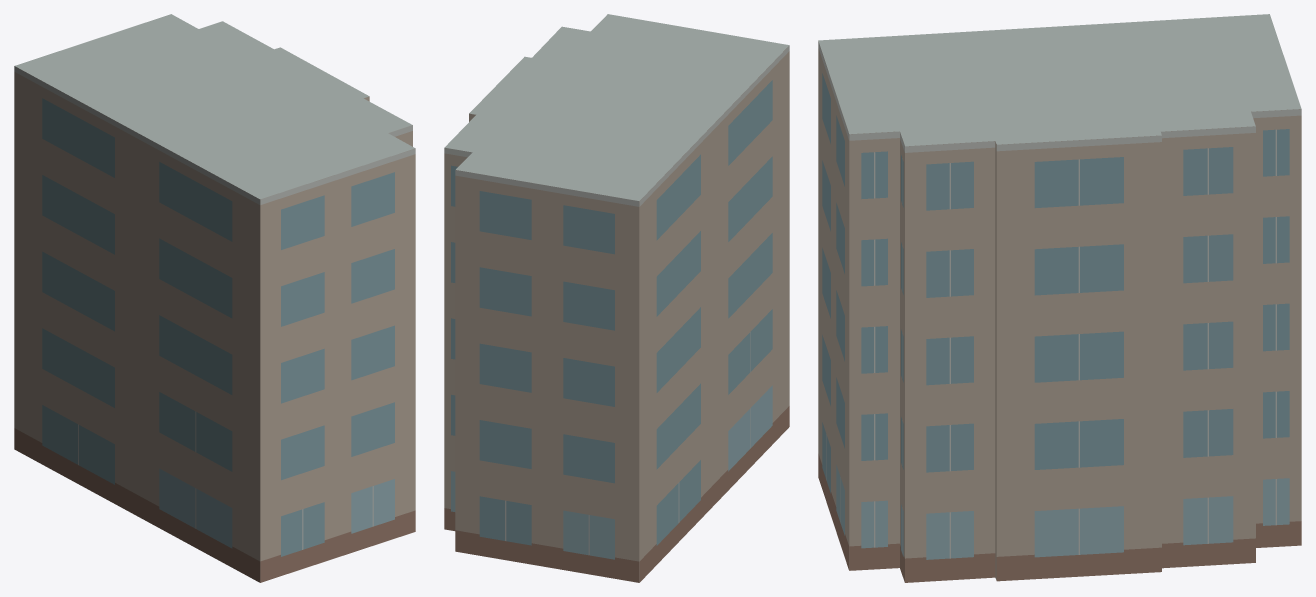
The model's file is survey-upis-32697129.glb.
The picture shows the model from 3 angles, left to right: view 1: azimuth 30°, elevation 25°; view 2: azimuth 150°, elevation 25°; view 3: azimuth 270°, elevation 25°; orthographic projection. The views are drawn at different scales.
Visible parts, largest first — view 1: survey-upis-32697129.tmp; view 2: survey-upis-32697129.tmp; view 3: survey-upis-32697129.tmp.
Part boxes in pixels (box(x1,y1,x2,y2)): survey-upis-32697129.tmp: box(14, 14, 415, 582); survey-upis-32697129.tmp: box(444, 14, 789, 582); survey-upis-32697129.tmp: box(818, 14, 1301, 582).
Size of the model in its own units: 10.52 by 16.17 by 16.24.
